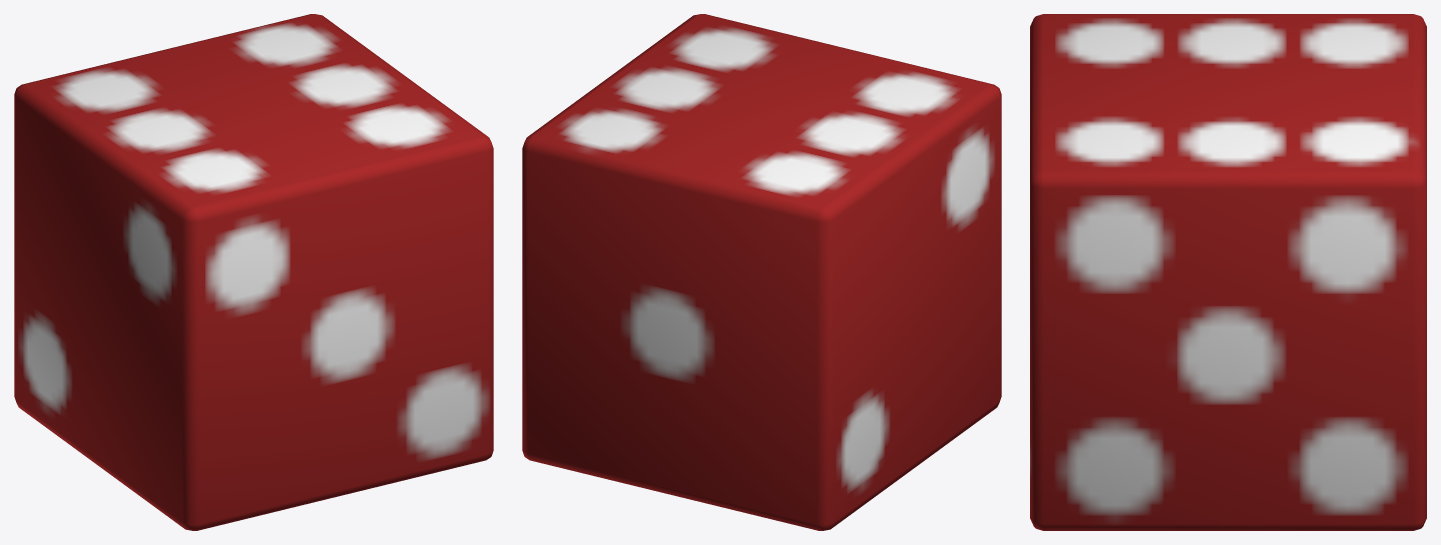
Rendered from Dice.glb.
The picture shows the model from 3 angles, left to right: view 1: azimuth 30°, elevation 25°; view 2: azimuth 150°, elevation 25°; view 3: azimuth 270°, elevation 25°; orthographic projection. The views are drawn at different scales.
Visible parts, largest first — view 1: Cube; view 2: Cube; view 3: Cube.
Part boxes in pixels (left/top/right/bottom): Cube: left=14, top=14, right=493, bottom=530; Cube: left=522, top=14, right=1001, bottom=530; Cube: left=1030, top=14, right=1426, bottom=530.
Size of the model in its own units: 0.0378 by 0.0378 by 0.0378.
1 material, 1 textured.
